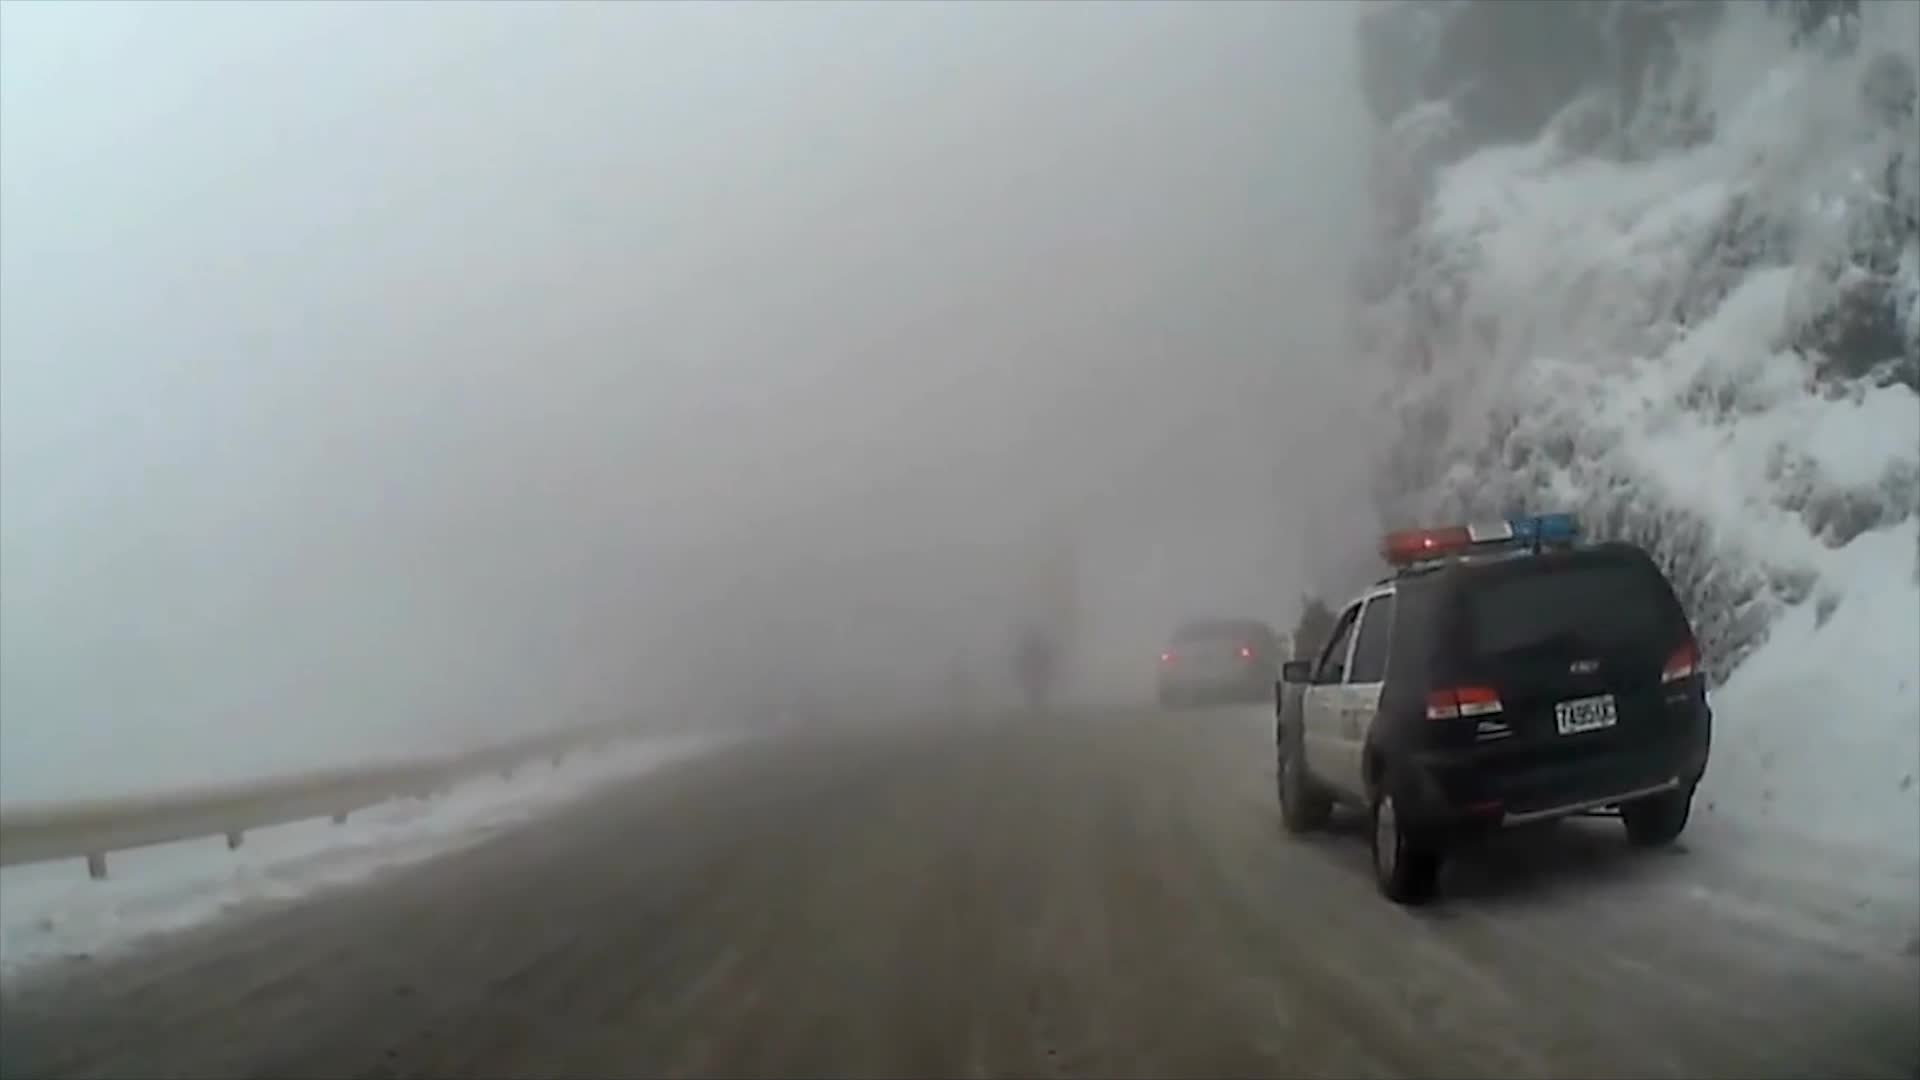vehicle: (1273, 514, 1714, 905), (1156, 615, 1288, 709)
